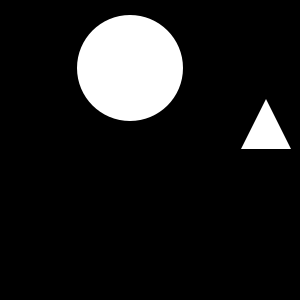rectangle: (77, 15, 183, 121)
triangle: (241, 99, 291, 149)
